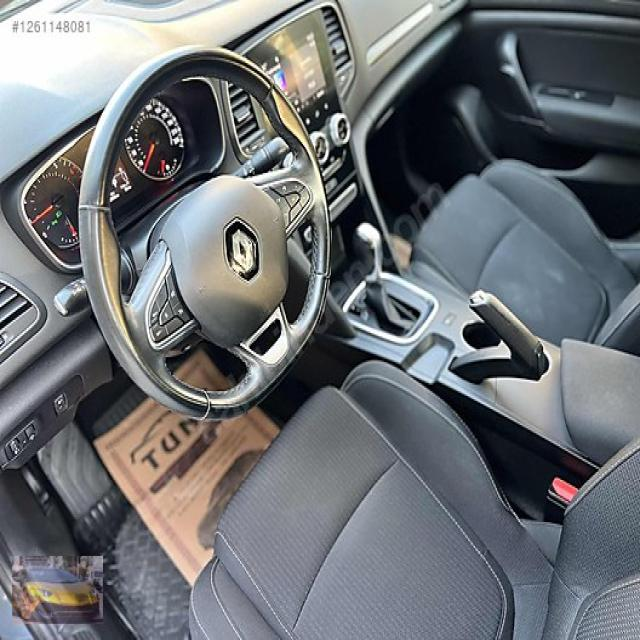renault: (230, 226, 255, 276)
